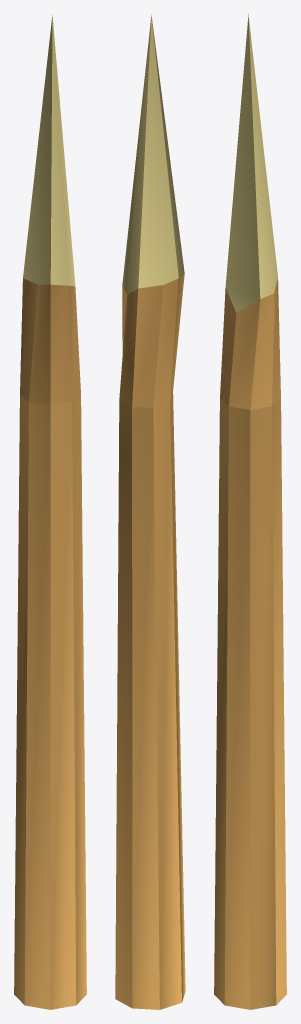
Rendered from Wood_stick.fbx.
The picture shows the model from 3 angles, left to right: view 1: azimuth 90°, elevation 25°; view 2: azimuth 150°, elevation 25°; view 3: azimuth 270°, elevation 25°; orthographic projection.
Parts seen in each view (by area): view 1: Wood_stick; view 2: Wood_stick; view 3: Wood_stick.
Part boxes in pixels (box(x1,y1,x2,y2)): Wood_stick: box(14, 14, 86, 1009); Wood_stick: box(115, 14, 185, 1009); Wood_stick: box(214, 14, 286, 1009).
Size of the model in its own units: 15.38 by 228 by 15.38.
